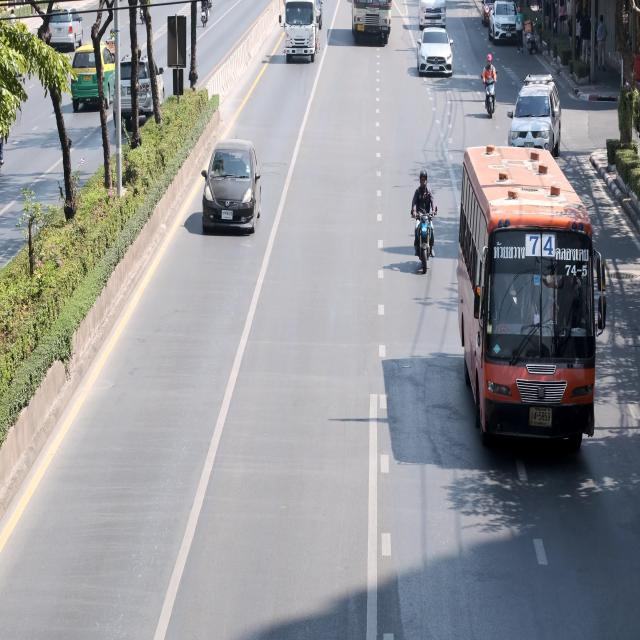bus: (443, 140, 607, 477)
cars: (190, 114, 278, 251), (105, 46, 182, 155), (501, 62, 573, 169), (272, 0, 327, 86), (413, 20, 464, 84), (71, 44, 115, 110), (346, 0, 398, 53), (43, 0, 84, 60), (489, 0, 526, 45), (411, 0, 450, 37), (474, 0, 503, 31)
motorcycle: (402, 151, 445, 285), (473, 44, 501, 126), (518, 3, 542, 72), (196, 0, 216, 36)
